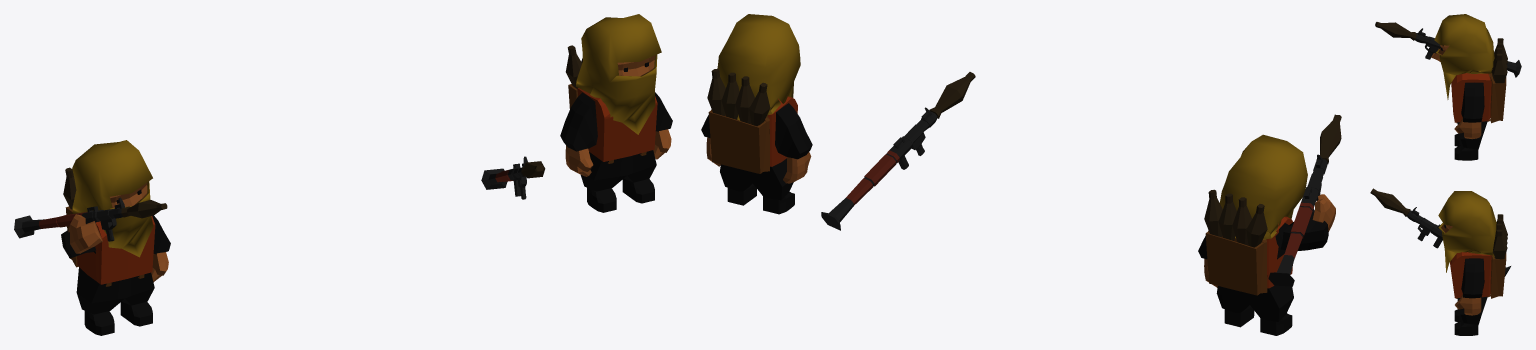
The model's file is soldier.obj.
3 views of the same model, side by side, from view 1: azimuth 30°, elevation 25°; view 2: azimuth 150°, elevation 25°; view 3: azimuth 270°, elevation 25° (orthographic). The views are drawn at different scales.
Parts seen in each view (by area): view 1: Cube.000, Cube.029_Cube.3247, Cube.001; view 2: Cube.029_Cube.3247, Cube.000, Cube.001; view 3: Cube.029_Cube.3247, Cube.000, Cube.001.
Boxes of the visible parts, box(x1,y1,x2,y2) form: Cube.000: box(560, 14, 672, 212); Cube.029_Cube.3247: box(14, 140, 170, 335); Cube.001: box(481, 156, 545, 199); Cube.029_Cube.3247: box(1198, 114, 1341, 335); Cube.000: box(701, 14, 812, 214); Cube.001: box(821, 72, 975, 230); Cube.029_Cube.3247: box(1375, 14, 1521, 160); Cube.000: box(1438, 191, 1507, 335); Cube.001: box(1370, 188, 1510, 276).
Size of the model in its own units: 2.89 by 0.8046 by 0.8463.
